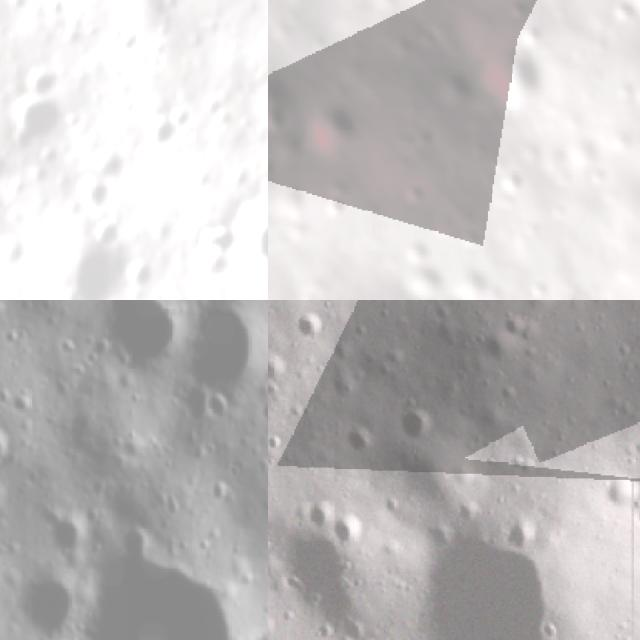crater: (56, 533, 263, 640), (417, 518, 550, 640), (268, 520, 369, 640), (456, 25, 554, 122), (180, 300, 268, 396), (94, 300, 194, 373), (294, 95, 371, 167), (15, 567, 84, 640), (221, 186, 268, 282), (55, 243, 134, 300), (9, 90, 69, 154), (49, 506, 95, 559), (70, 176, 130, 216), (395, 231, 441, 279), (136, 116, 191, 154), (196, 383, 235, 434), (597, 471, 638, 517), (400, 397, 437, 444), (346, 412, 377, 462), (504, 515, 542, 553), (491, 170, 533, 203), (294, 303, 327, 345), (299, 494, 333, 532), (329, 513, 366, 544), (459, 226, 492, 258), (321, 191, 350, 224), (0, 423, 18, 472), (516, 217, 544, 245), (252, 87, 268, 135), (268, 348, 288, 385), (403, 182, 427, 210), (582, 164, 606, 192), (268, 153, 281, 188)
